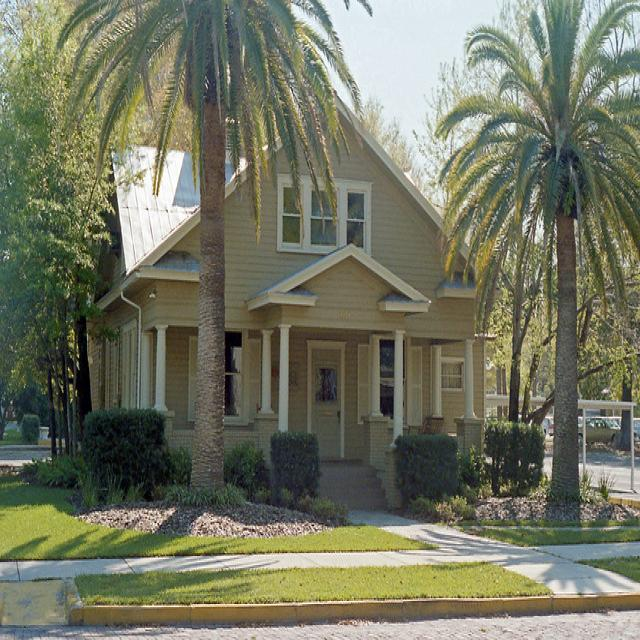Normal_building: (78, 74, 497, 518)
